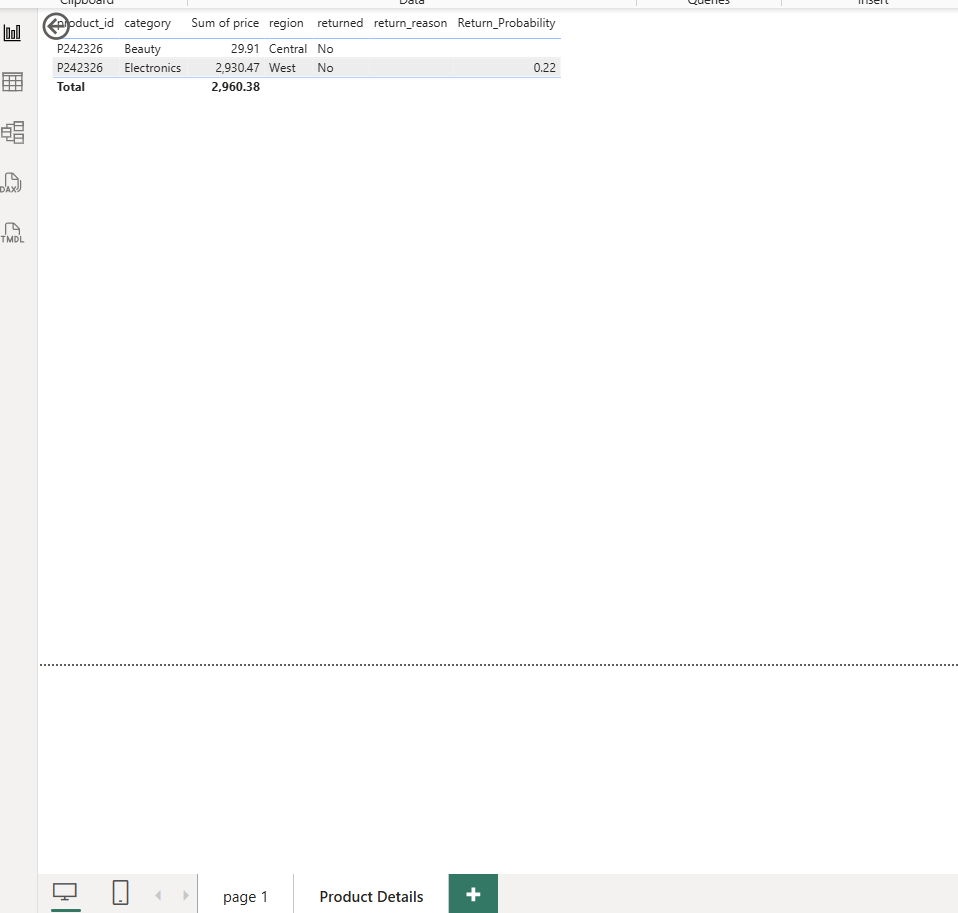

Layout of this report page (visuals, bound fields, positions):
{"tool":"powerbi","page":{"name":"Product Details","canvas":[1280,720],"ordinal":1},"visuals":[{"type":"tableEx","fields":{"Values":["Ecommerce_Return_Analysis.product_id","Ecommerce_Return_Analysis.category","Sum(Ecommerce_Return_Analysis.price)","Ecommerce_Return_Analysis.region","Ecommerce_Return_Analysis.returned","Ecommerce_Return_Analysis.return_reason","high_risk_products.Return_Probability"]},"box":[10.2,0,630.5,686.4],"z":0},{"type":"actionButton","box":[0,0,100,40],"z":1000}]}

Visuals, with their boxes on the page's 1280x720 design canvas (x1, y1, x2, y2). These are canvas units, not pixel positions in the 958x913 screenshot, which may show the page scaled, cropped or inside an application window:
tableEx - Ecommerce_Return_Analysis.product_id x Ecommerce_Return_Analysis.category: [left=10, top=0, right=641, bottom=686]
actionButton: [left=0, top=0, right=100, bottom=40]
